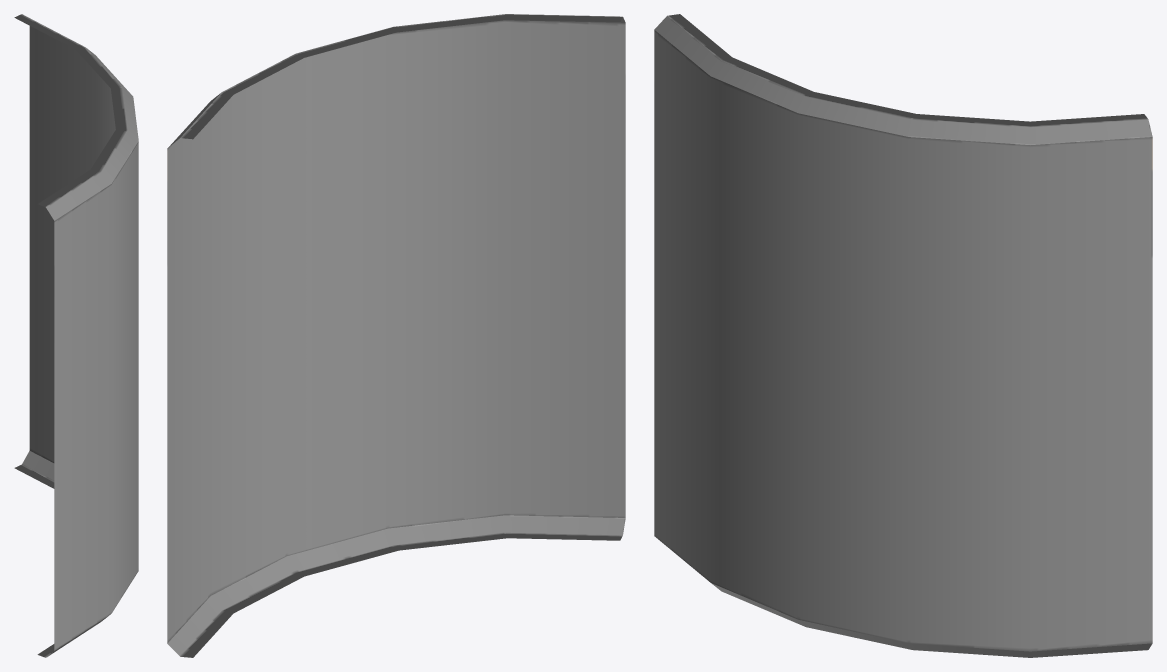
File: barrelPartB.fbx
3 renders of one model, left to right at view 1: azimuth 30°, elevation 25°; view 2: azimuth 150°, elevation 25°; view 3: azimuth 270°, elevation 25°, orthographic. The views are drawn at different scales.
Visible parts, largest first — view 1: barrelPartB; view 2: barrelPartB; view 3: barrelPartB.
Boxes of the visible parts, left/top/right/bottom form: barrelPartB: left=14, top=14, right=138, bottom=657; barrelPartB: left=167, top=14, right=625, bottom=657; barrelPartB: left=654, top=14, right=1152, bottom=657.
Bounding box in the file's own units: 51.28 × 107 × 90.73.
